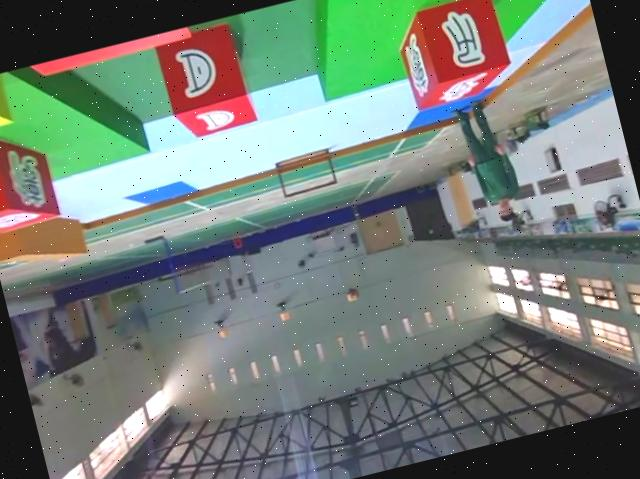R2 Fake: (391, 0, 515, 110), (0, 122, 61, 235)
R2 Real: (152, 21, 261, 147)
